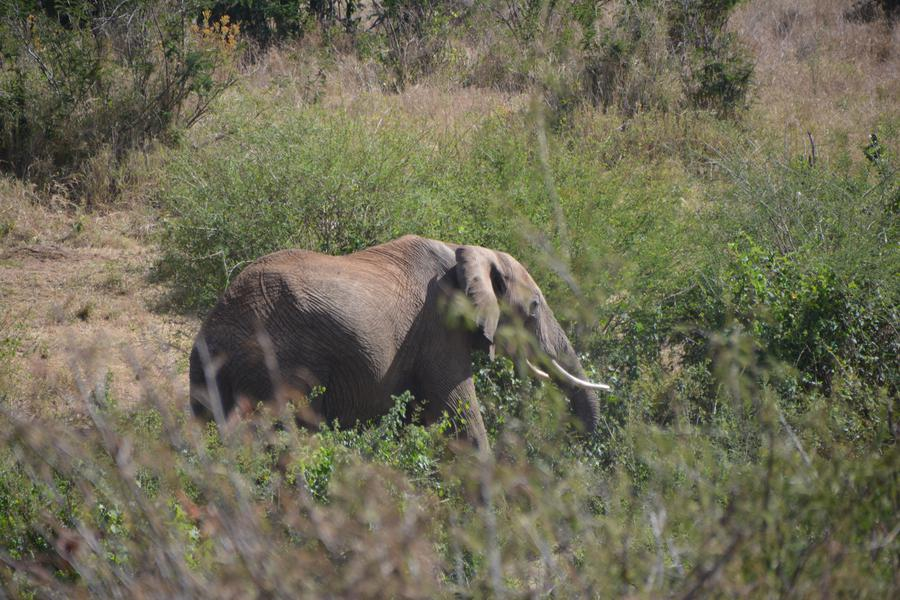elephant: (190, 226, 611, 450)
